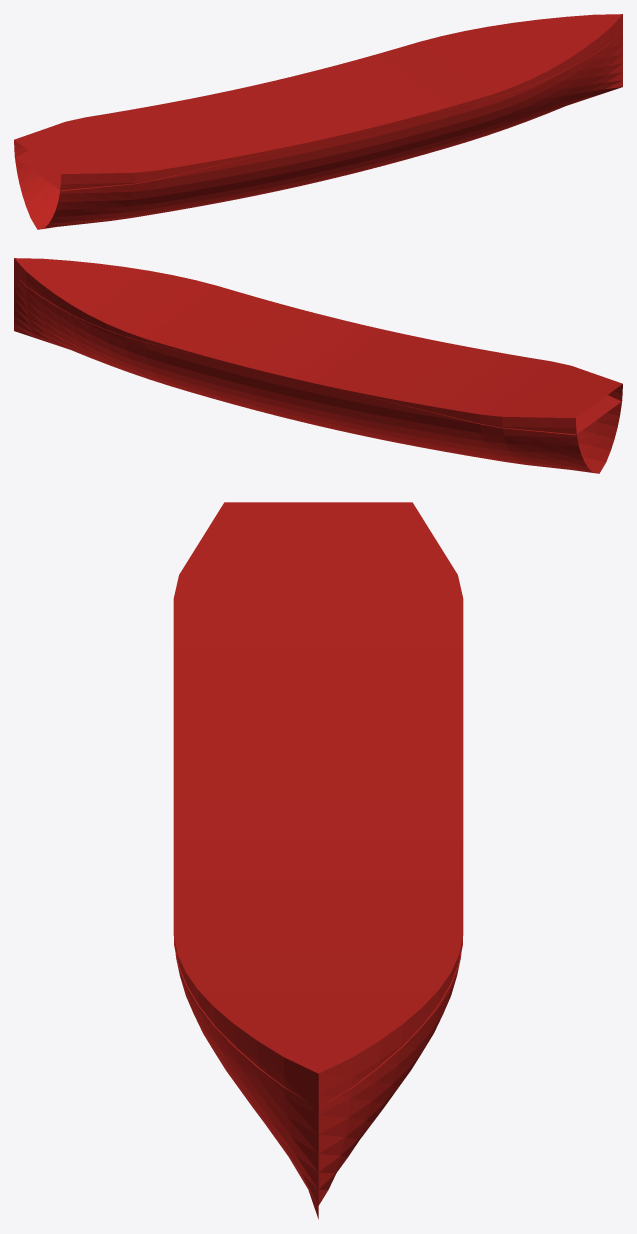
Rendered from hull.dae.
3 renders of one model, top to bottom at view 1: azimuth 30°, elevation 25°; view 2: azimuth 150°, elevation 25°; view 3: azimuth 270°, elevation 25°, orthographic. The views are drawn at different scales.
Parts seen in each view (by area): view 1: hull; view 2: hull; view 3: hull.
Boxes of the visible parts, bbox=[...] form: hull: bbox=[14, 14, 622, 229]; hull: bbox=[14, 258, 622, 473]; hull: bbox=[173, 502, 463, 1219].
Bounding box in the file's own units: 42 × 9 × 6.17.
